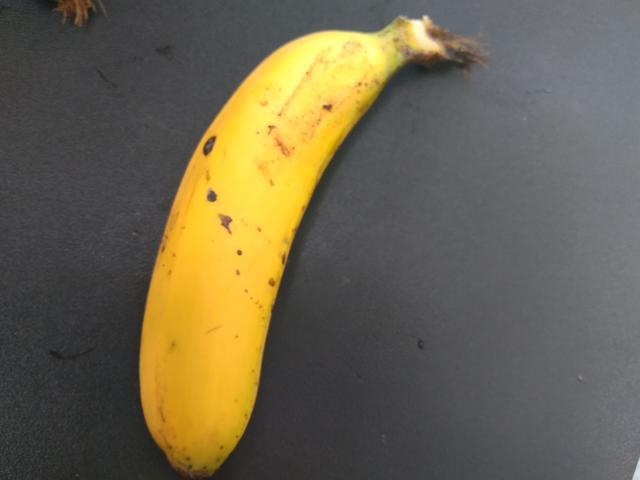ripe: (92, 34, 367, 479)
